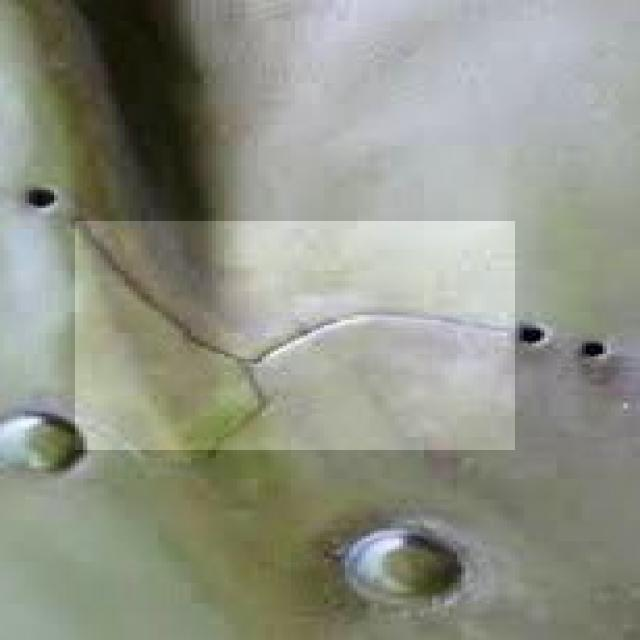crack: (76, 222, 516, 451)
